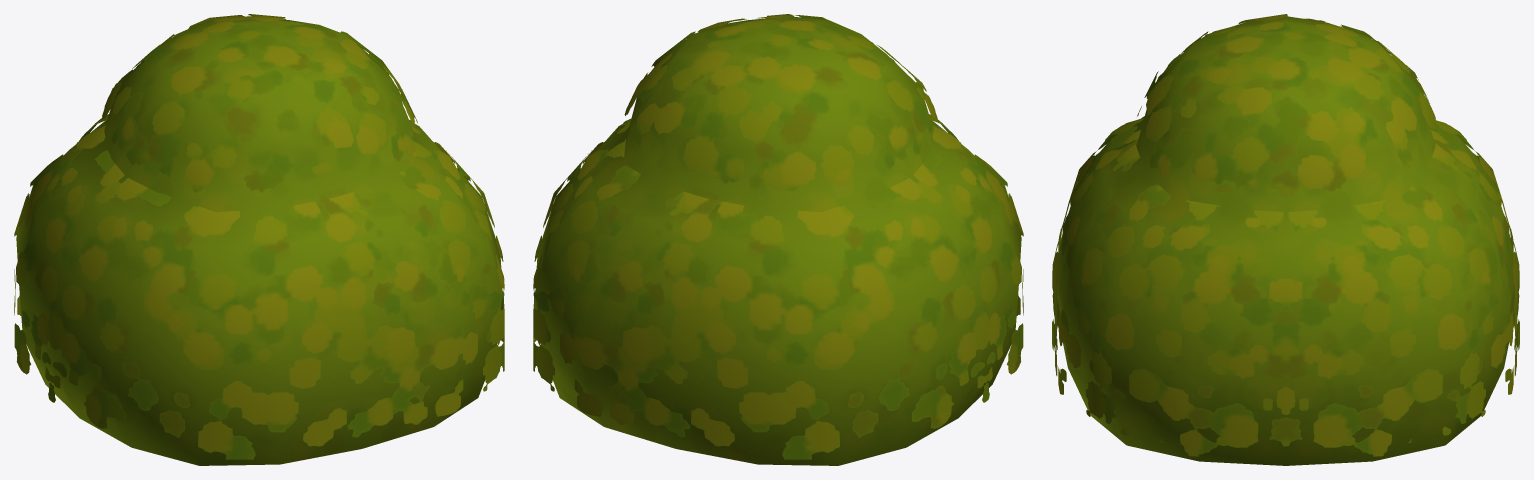
The model's file is Bush.fbx.
3 views of the same model, side by side, from view 1: azimuth 30°, elevation 25°; view 2: azimuth 150°, elevation 25°; view 3: azimuth 270°, elevation 25° (orthographic).
Visible parts, largest first — view 1: Bush; view 2: Bush; view 3: Bush.
Part boxes in pixels (x1,y1,x2,y2): Bush: (14,14,504,465); Bush: (533,14,1023,465); Bush: (1052,14,1519,465).
Size of what is drawn, in the model's own units: 67.4 by 52.63 by 65.35.
